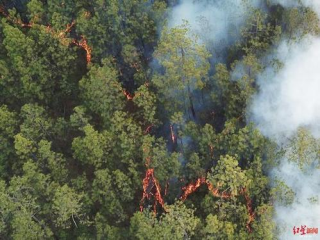fire: (129, 157, 261, 221), (22, 16, 108, 72)
smoke: (261, 26, 320, 217), (157, 6, 245, 122)
